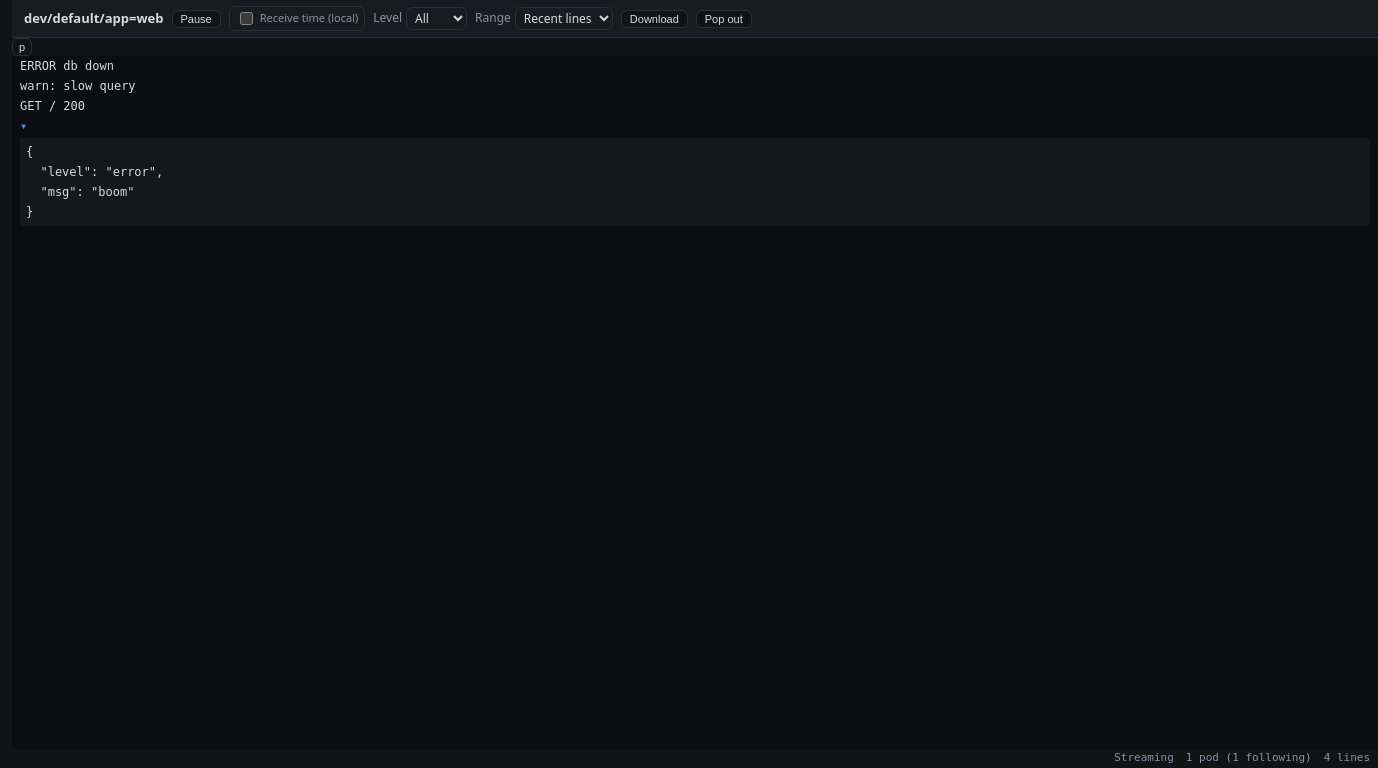
Test: <WorkloadLogsView /> › 02-06a level filter keeps only matching lines (JSON level field first)
Expected: the text "GET / 200" is shown, [20,99,85,113]
Select "Error" in the dropdown named "Log level" at x=437, y=18, box [406,7,467,30]
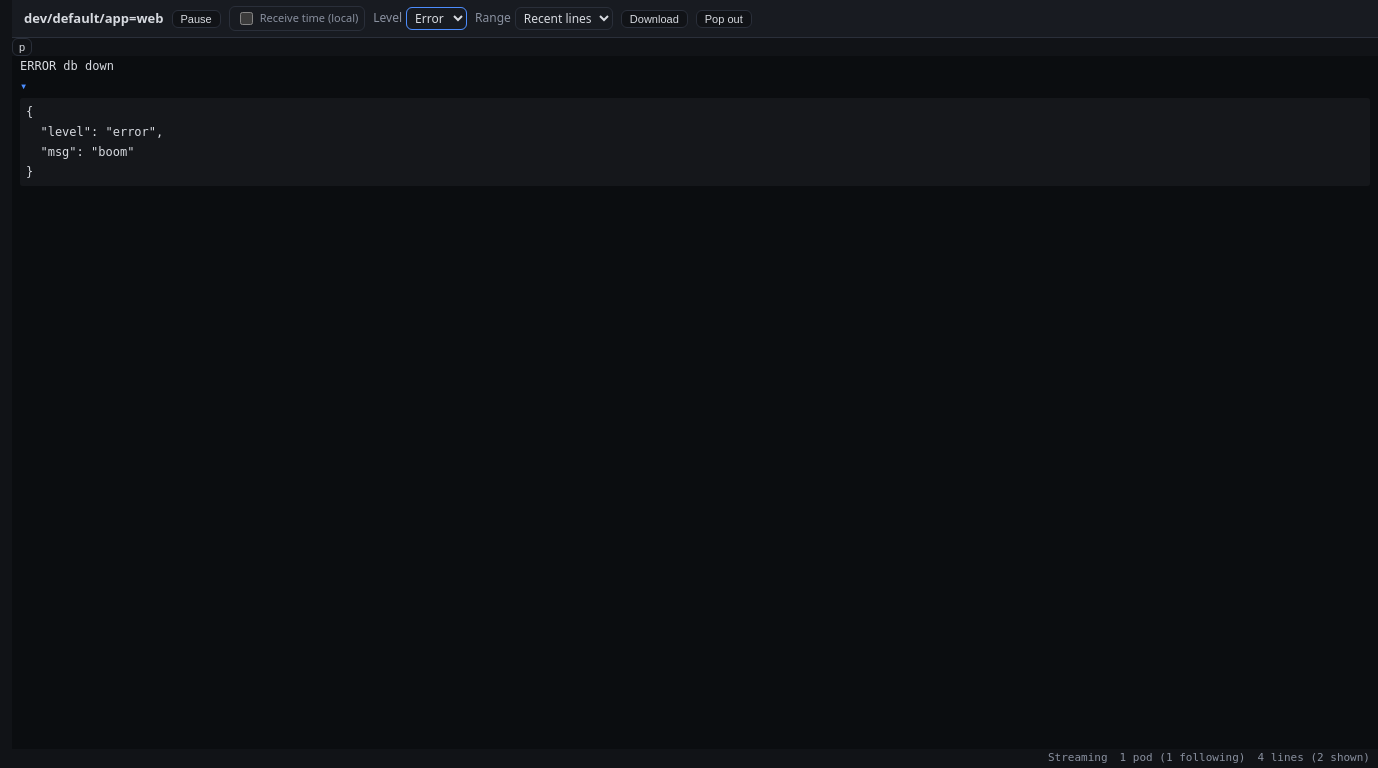
Expected: the text "GET / 200" is gone
Expected: the text "warn: slow query" is gone
Expected: the number of elements with test id "log-line" is 2, [20,59,114,73]; [12,76,1377,186]
Select "Warn" in the dropdown named "Log level" at x=437, y=18, box [406,7,467,30]
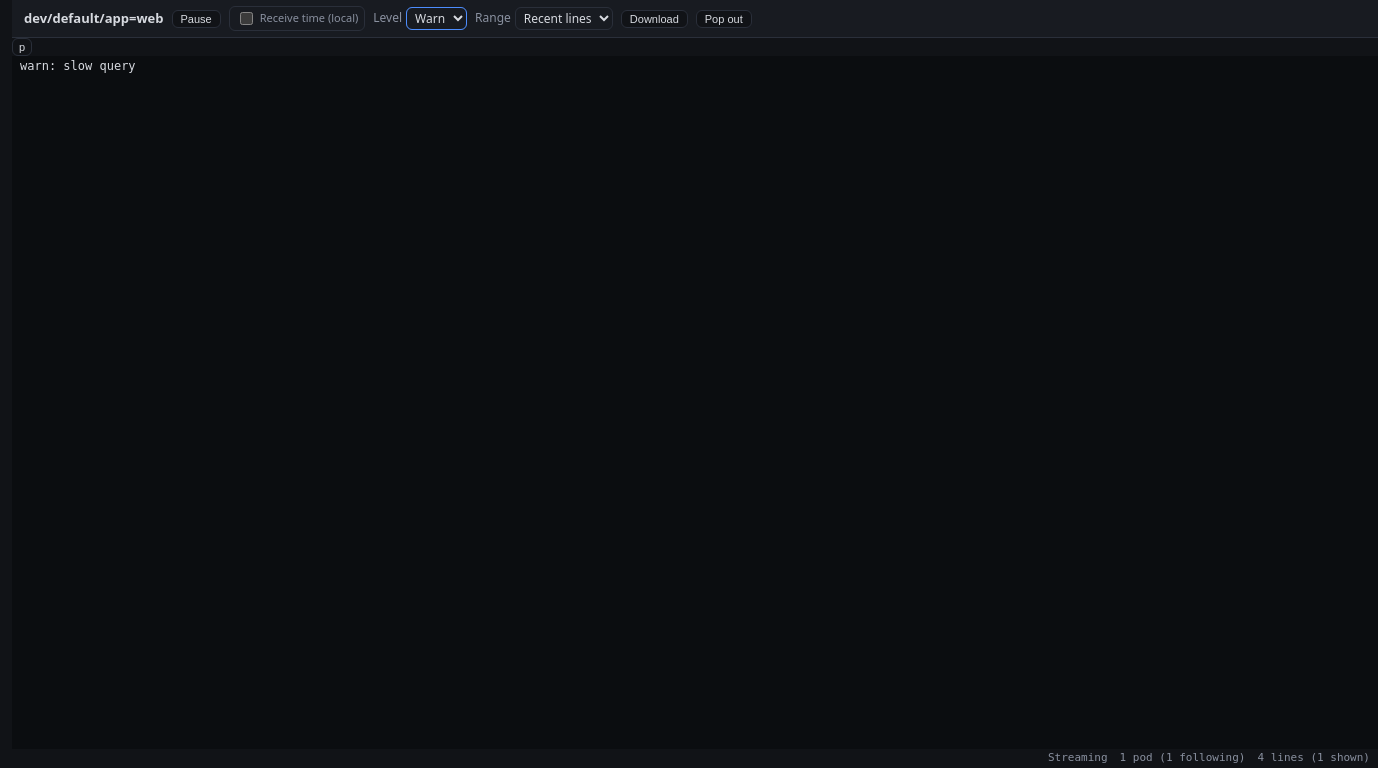
Expected: the number of elements with test id "log-line" is 1, [20,59,136,73]
